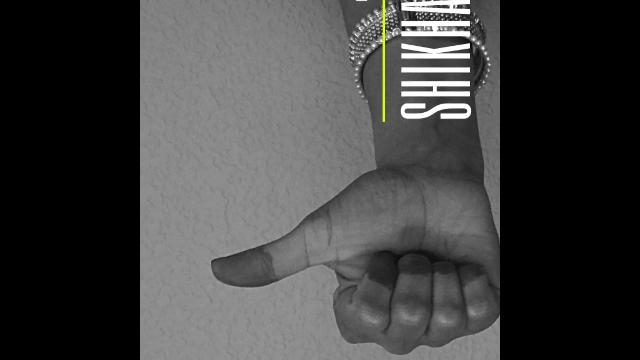shikhar: (206, 132, 500, 350)
